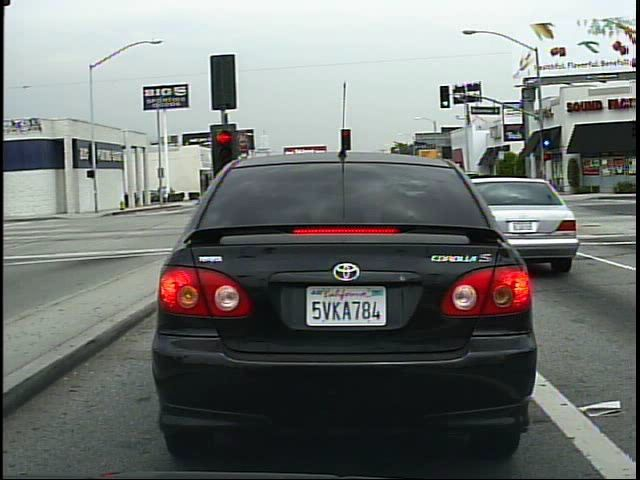person: (517, 169, 531, 201), (165, 184, 172, 207)
